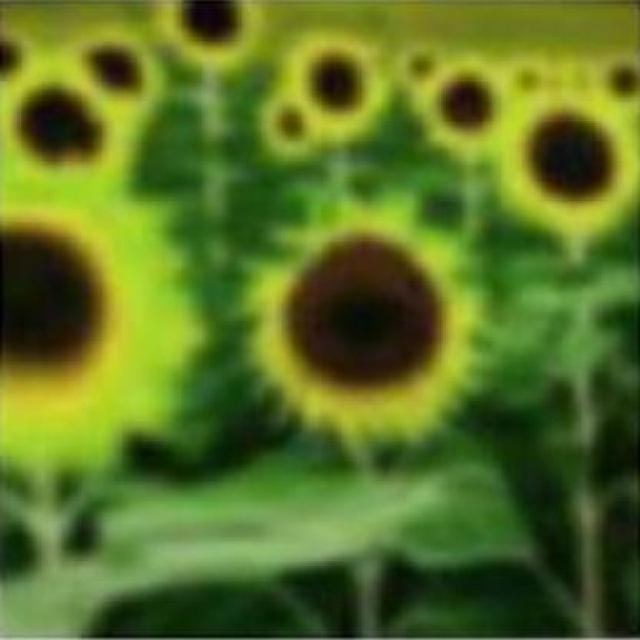sunflower: (255, 212, 470, 437), (0, 188, 172, 454), (501, 86, 640, 240)
